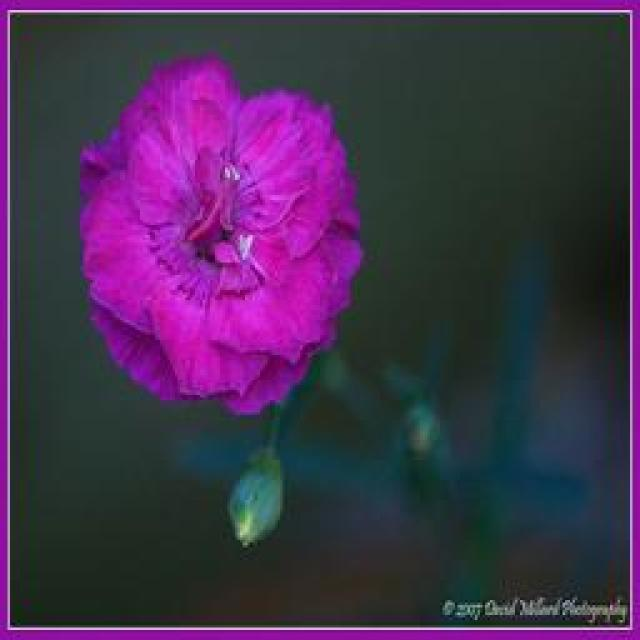carnation: (64, 50, 384, 416)
